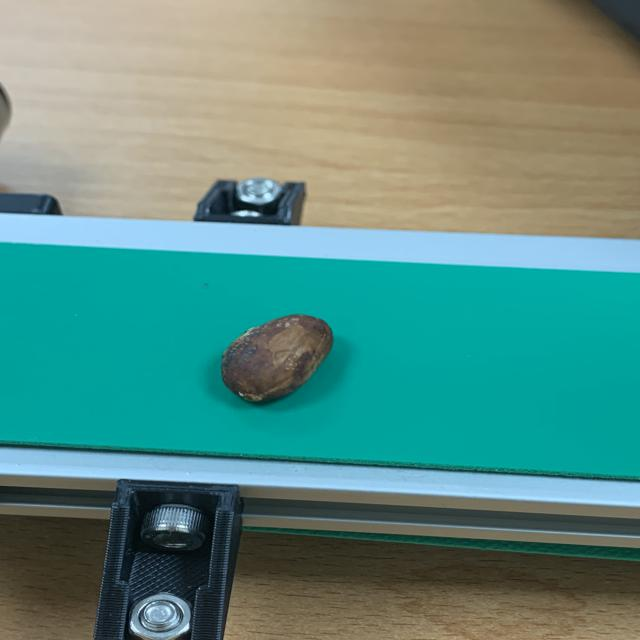Fine_cocoabeans: (134, 297, 433, 426)
